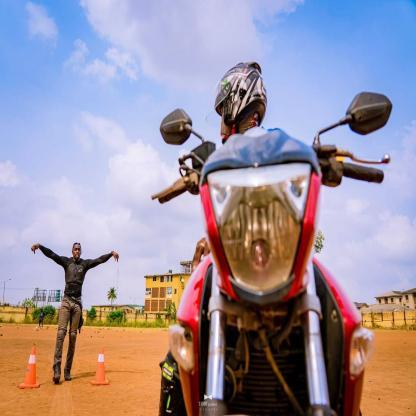helmet: (213, 61, 268, 146)
nohelmet: (71, 240, 83, 261)
